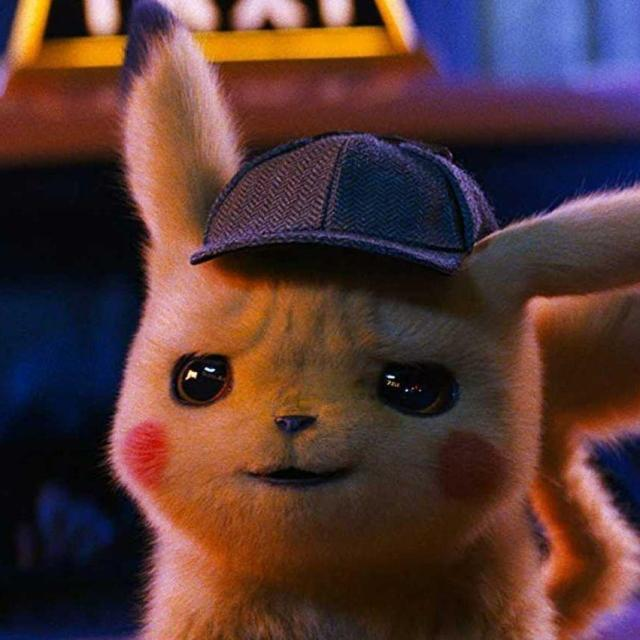pikachu: (112, 0, 637, 640)
